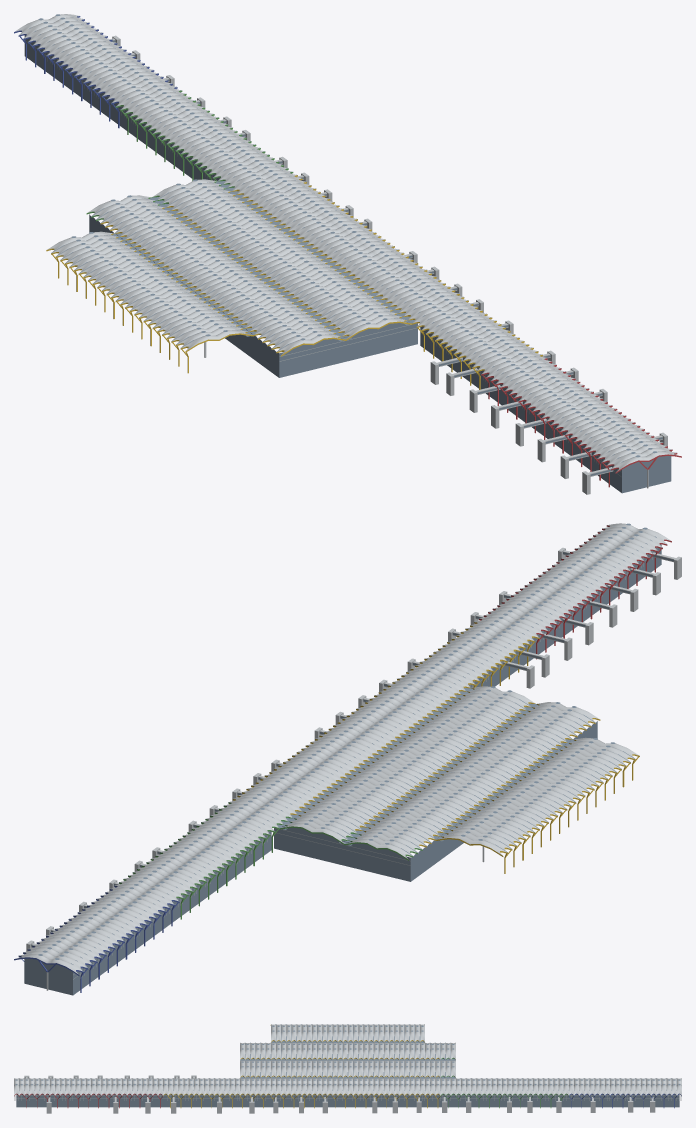
The model's file is madrid-barajas-terminal-4.detail.glb.
The picture shows the model from 3 angles, top to bottom: view 1: azimuth 30°, elevation 25°; view 2: azimuth 150°, elevation 25°; view 3: azimuth 270°, elevation 25°; orthographic projection. The views are drawn at different scales.
Parts seen in each view (by area): view 1: Madrid-Barajas Terminal 4; view 2: Madrid-Barajas Terminal 4; view 3: Madrid-Barajas Terminal 4.
Boxes of the visible parts, bbox=[...] form: Madrid-Barajas Terminal 4: bbox=[14, 14, 681, 494]; Madrid-Barajas Terminal 4: bbox=[14, 523, 681, 995]; Madrid-Barajas Terminal 4: bbox=[14, 1024, 681, 1113].
Bounding box in the file's own units: 315 × 35.32 × 1170.
